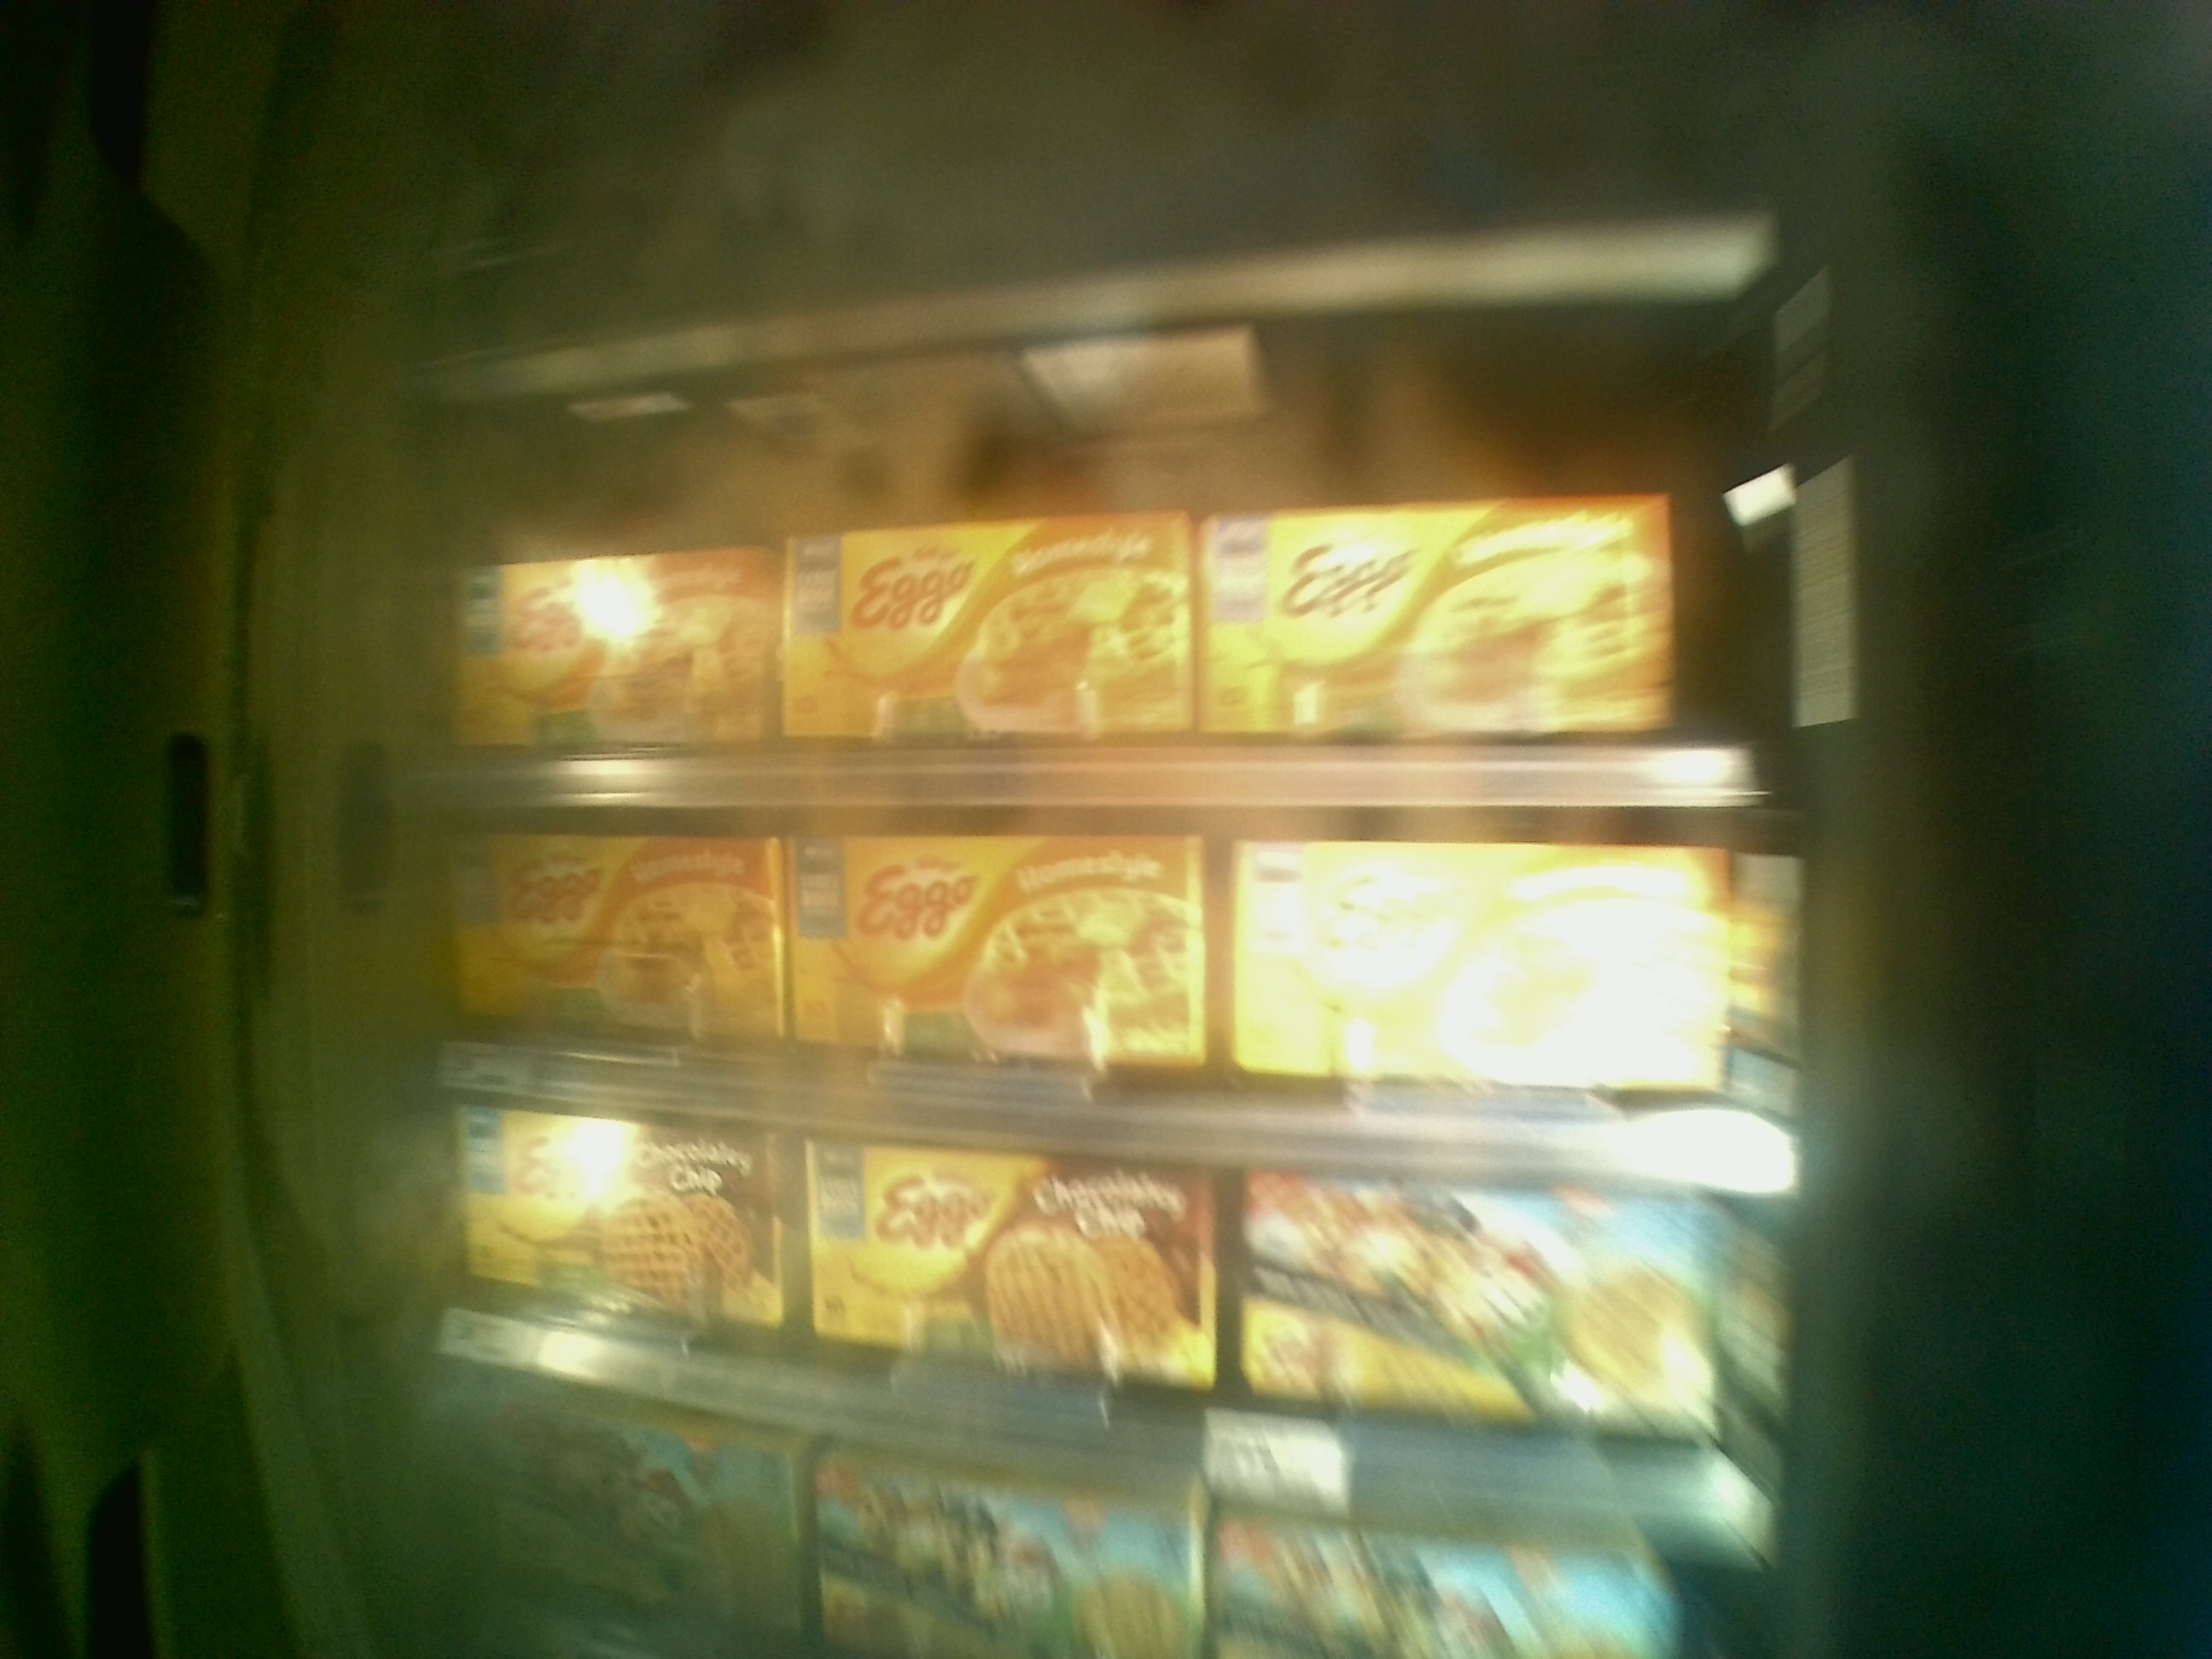shelf: (416, 809, 1806, 1190), (415, 436, 1787, 809)
